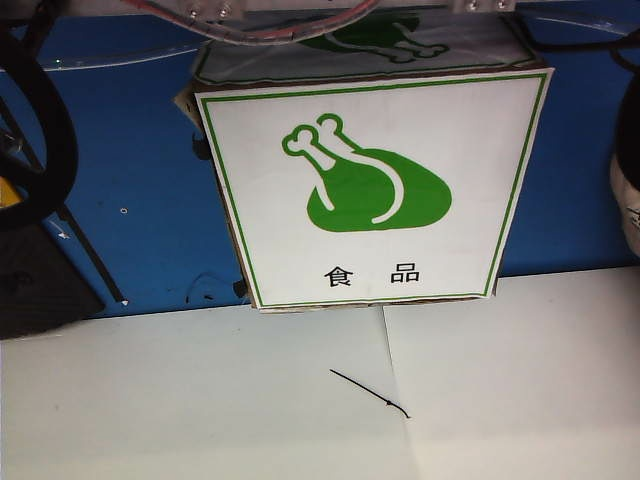Cube_food: (271, 105, 487, 296)
